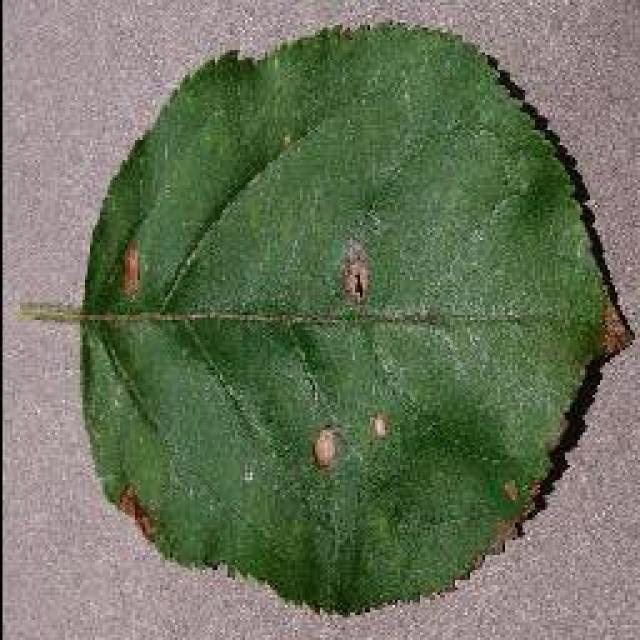Black_rot: (63, 18, 635, 618)
